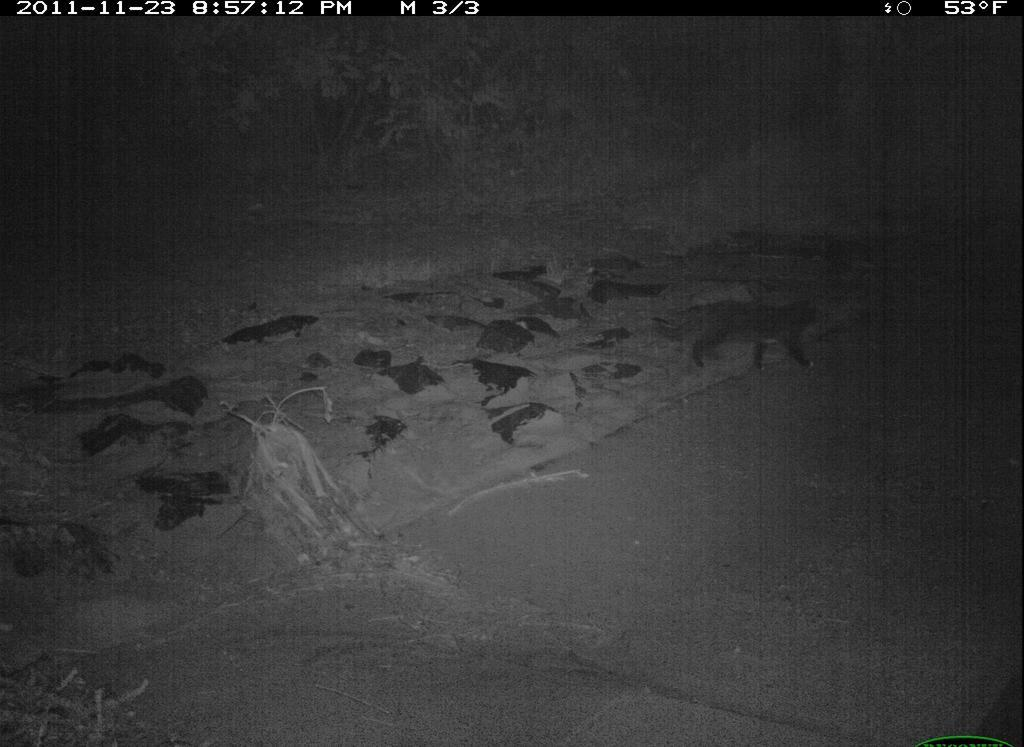cat: (651, 289, 831, 381)
